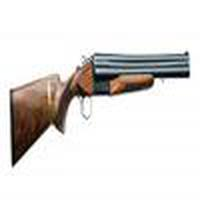gun: (7, 50, 197, 159)
